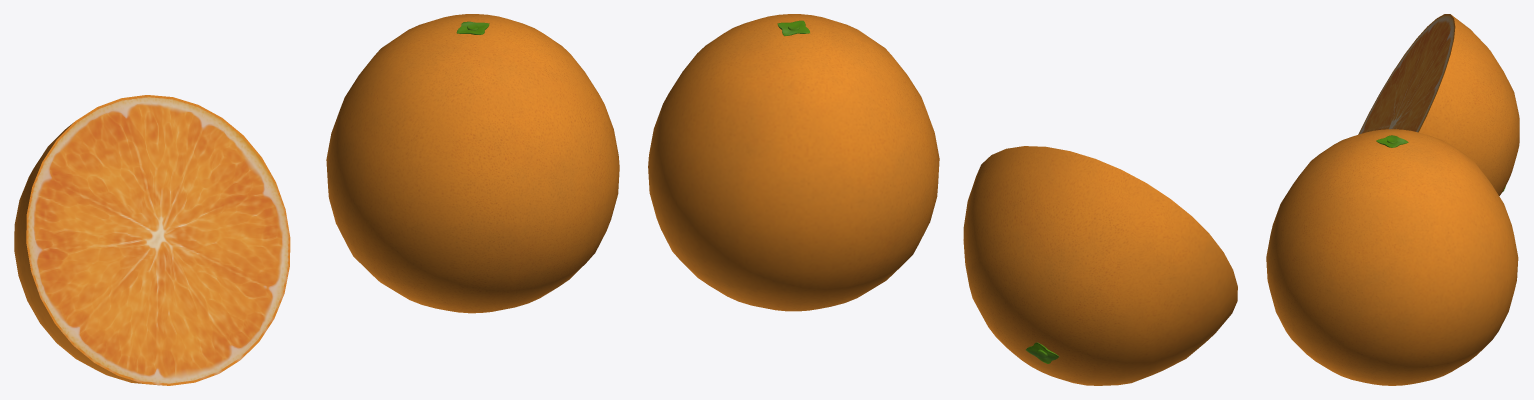
The model's file is Orange.fbx.
3 renders of one model, left to right at view 1: azimuth 30°, elevation 25°; view 2: azimuth 150°, elevation 25°; view 3: azimuth 270°, elevation 25°, orthographic. The views are drawn at different scales.
Visible parts, largest first — view 1: Orange1, Orange2; view 2: Orange1, Orange2; view 3: Orange1, Orange2.
Part boxes in pixels (x1=…): Orange1: x1=326, y1=14, x2=619, y2=313; Orange2: x1=14, y1=95, x2=290, y2=385; Orange1: x1=648, y1=14, x2=939, y2=311; Orange2: x1=963, y1=146, x2=1237, y2=385; Orange1: x1=1266, y1=129, x2=1518, y2=385; Orange2: x1=1358, y1=14, x2=1519, y2=195.
Bounding box in the file's own units: 16.78 × 7.68 × 7.54.
